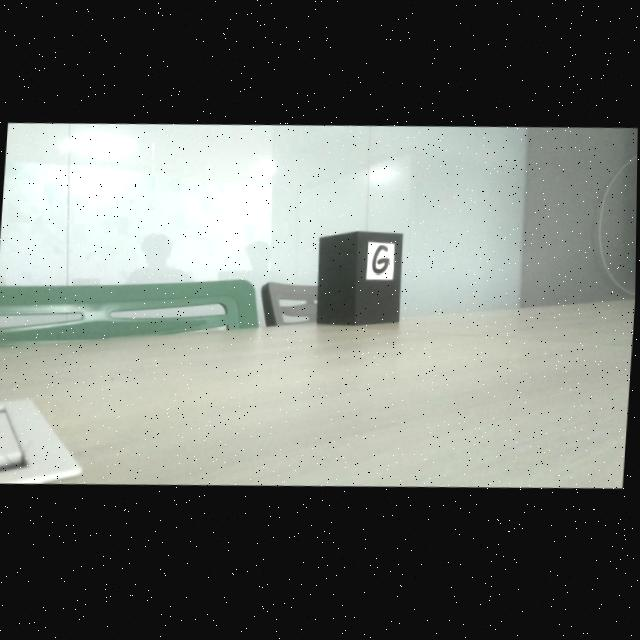G: (373, 249, 391, 278)
